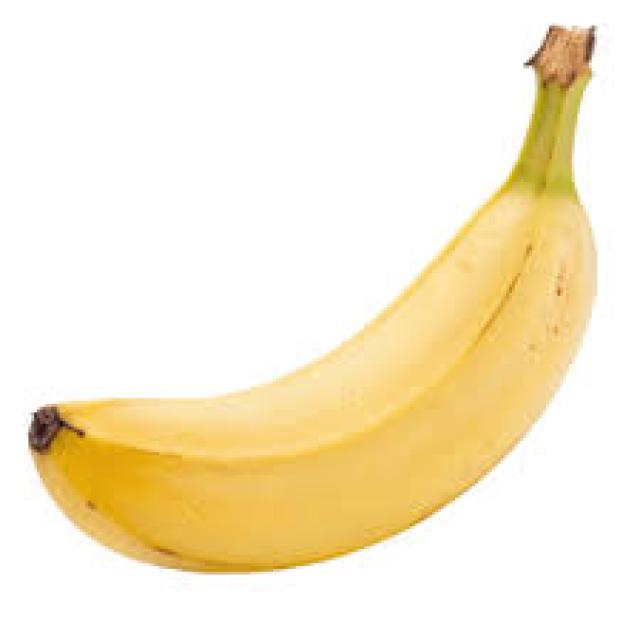pisang: (30, 12, 608, 572)
